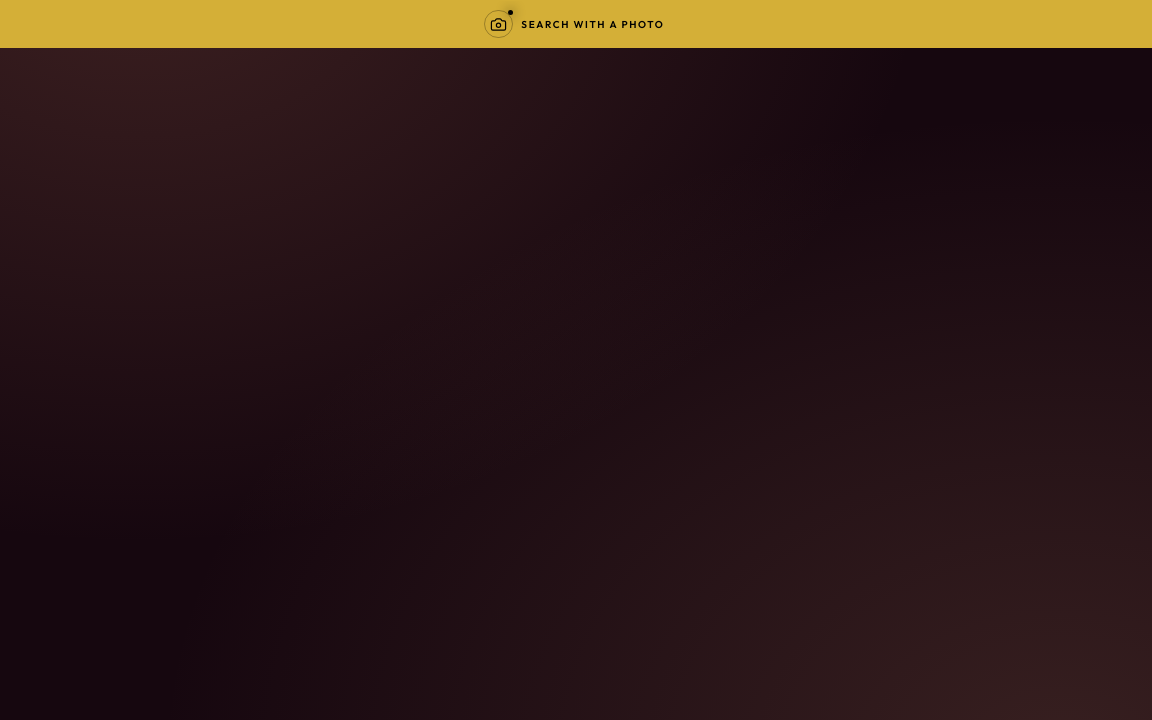
renders a labelled photo action for the unified search menu
Later steps or results of the test are not shown.
Step 1. Click the button with aria-label "Upload a photo to find exact or similar products" → (576, 24), box left=0, top=0, right=1151, bottom=48
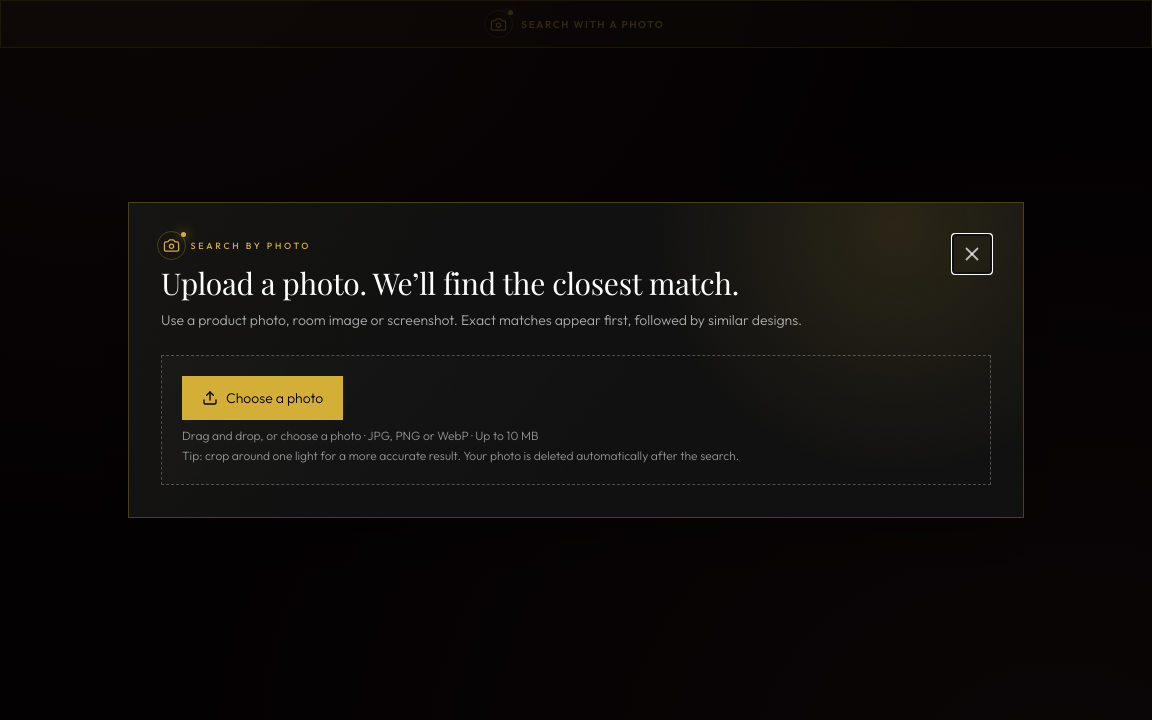
Expected: the dialog "Upload a photo. We’ll find the closest match." is shown, left=128, top=202, right=1024, bottom=518
